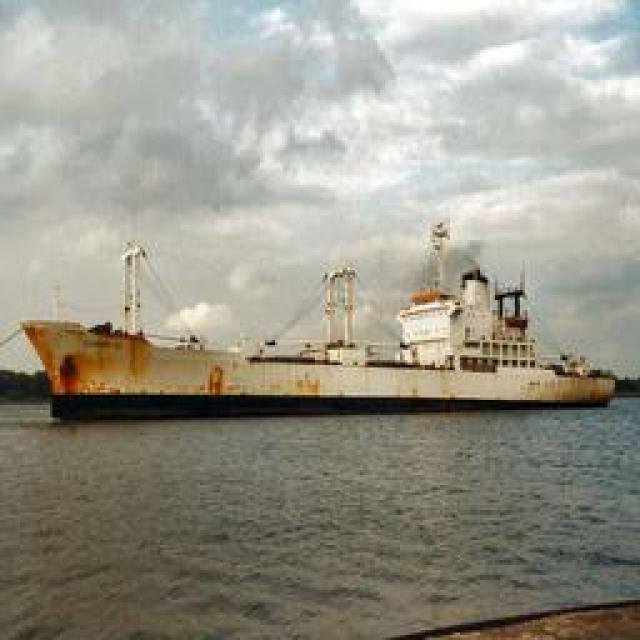CIV_Ship: (21, 226, 611, 419)
